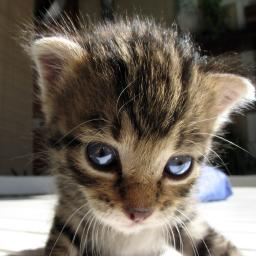catnose: (116, 194, 160, 226)
